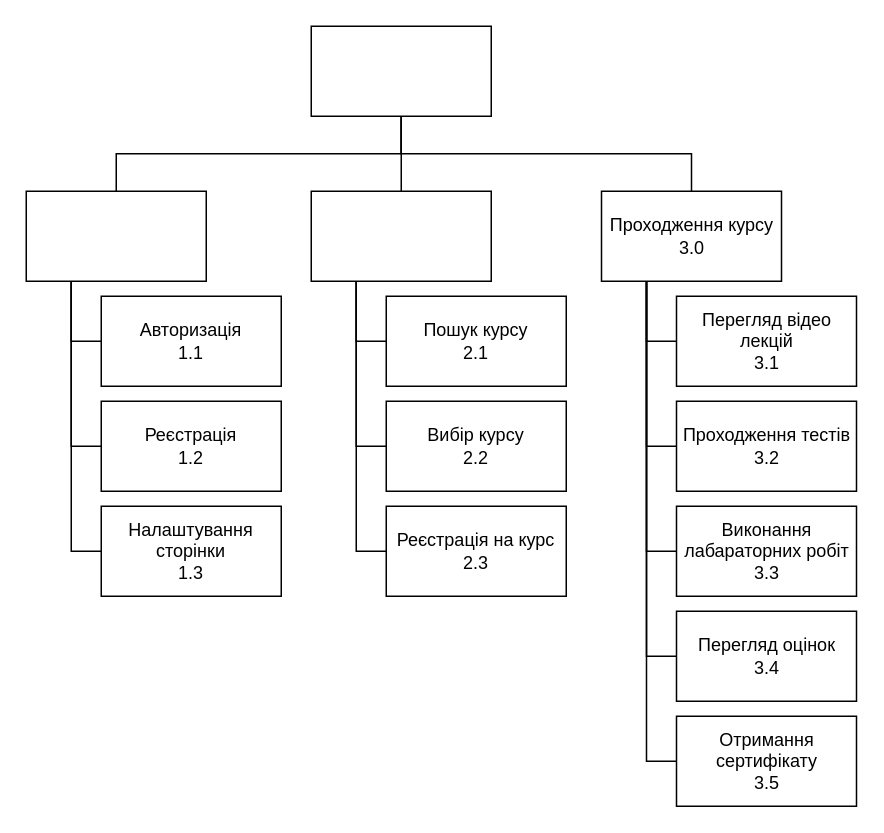
Some shapes in this 884 by 833 pixel diagram are drawn without their labels. Here are the shapes that lost their labels. From the top down, the centre of each, then its label:
the point at 400,70: Система Електронного Навчання
the point at 115,235: Управління користувачем 1.0
the point at 400,235: Запис на курс 2.0
